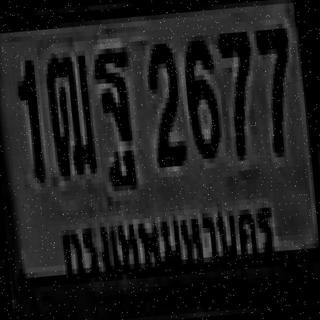A16: (91, 45, 135, 170)
A18: (44, 50, 94, 172)
N01: (13, 55, 41, 179)
N02: (144, 38, 184, 163)
N06: (180, 34, 219, 155)
N07: (253, 23, 295, 153), (215, 27, 257, 156)
P04: (53, 188, 282, 288)
